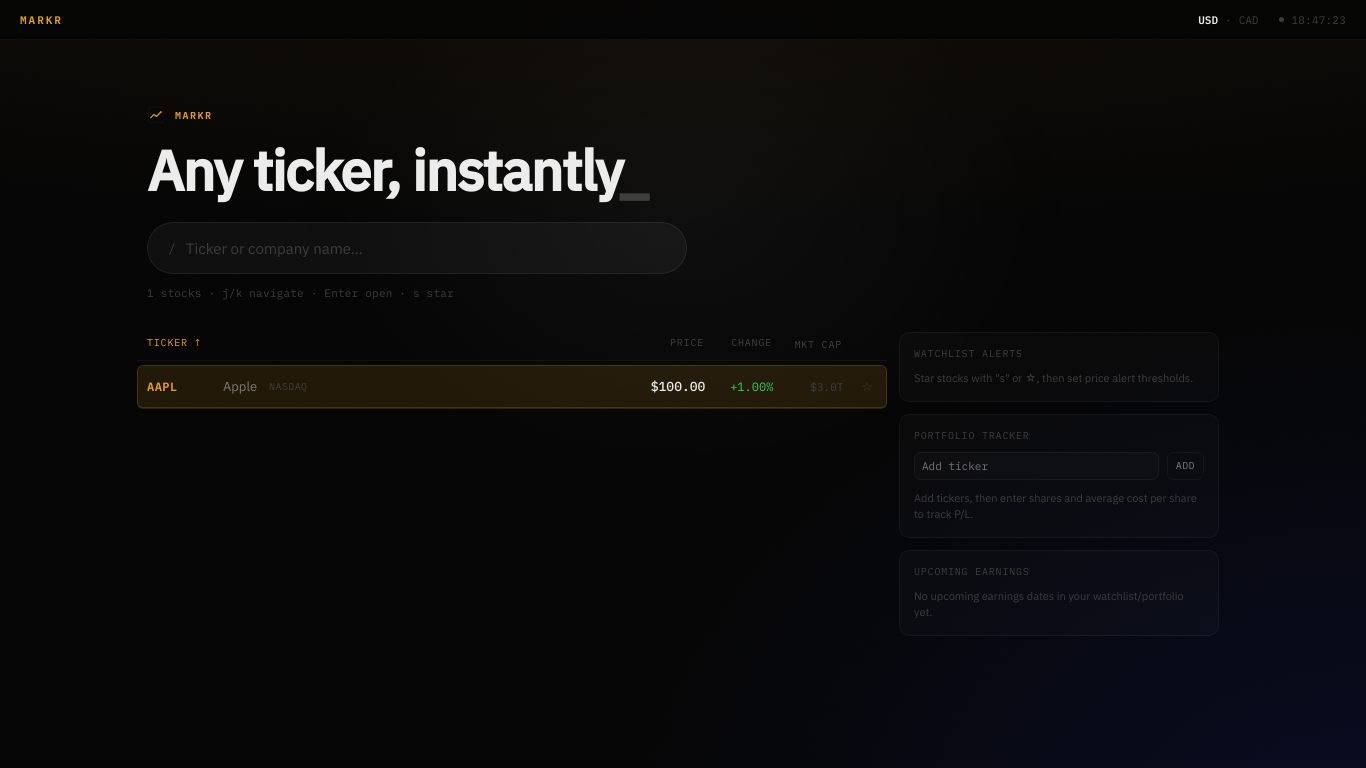
a failed news request says so instead of rendering nothing
Click the text "AAPL" at (162, 387), box [147,380,178,394]
(page scrolled)
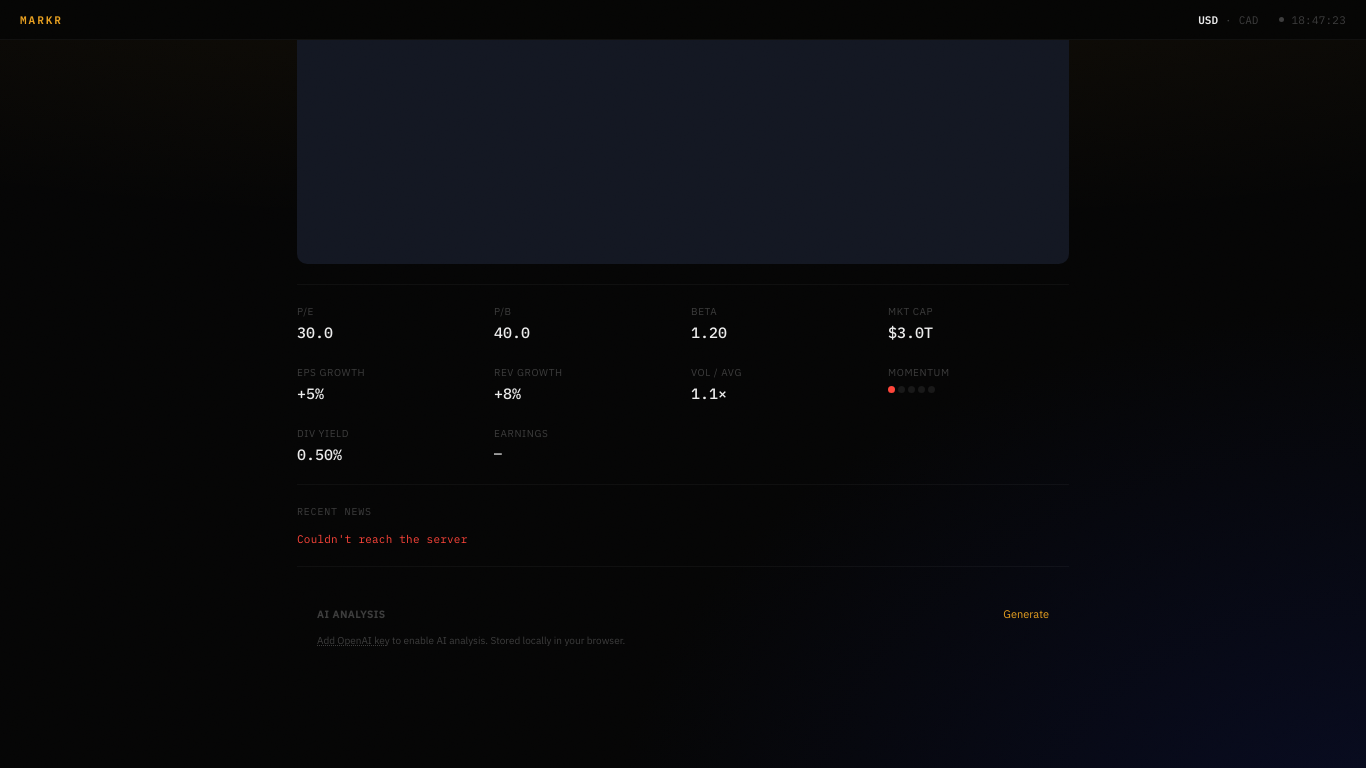
Now the text "Recent News" is shown, box [297,505,372,518]
Now the text "Couldn't reach the server" is shown, box [297,532,468,546]
